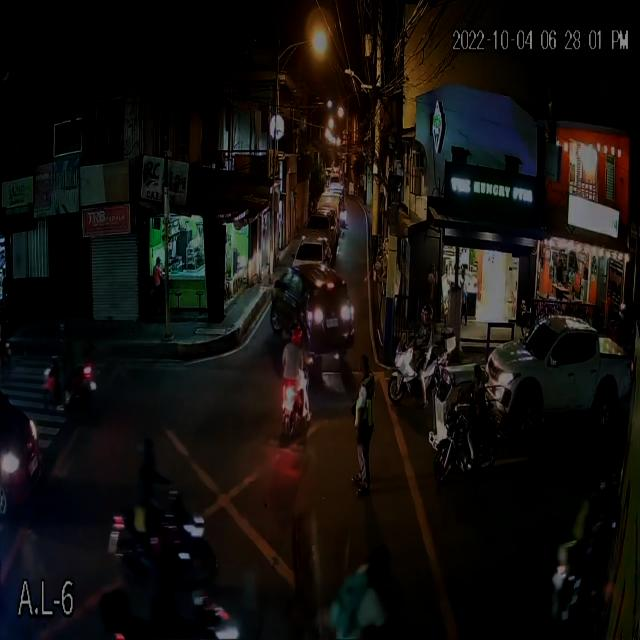Full-Faced: (596, 468, 617, 504), (138, 436, 157, 473), (421, 302, 433, 328), (292, 321, 304, 346)
